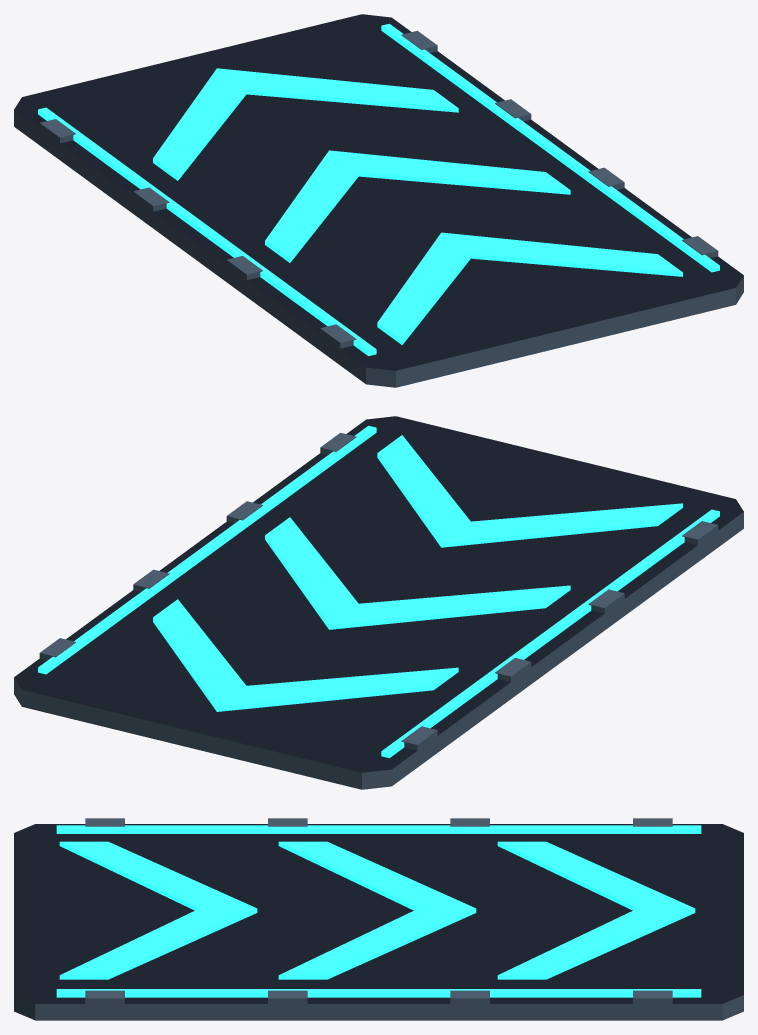
The model's file is prop-chevron-8ec5bc25.glb.
3 views of the same model, one above another, from view 1: azimuth 30°, elevation 25°; view 2: azimuth 150°, elevation 25°; view 3: azimuth 270°, elevation 25° (orthographic). The views are drawn at different scales.
Visible parts, largest first — view 1: prop-chevron_body, chevron_forward_0, chevron_forward_2, chevron_forward_1; view 2: prop-chevron_body, chevron_forward_0, chevron_forward_1, chevron_forward_2; view 3: prop-chevron_body, chevron_forward_0, chevron_forward_1, chevron_forward_2.
Boxes of the visible parts, <box> form: prop-chevron_body: <box>14,14,743,387</box>; chevron_forward_0: <box>153,68,458,180</box>; chevron_forward_2: <box>377,232,682,344</box>; chevron_forward_1: <box>265,150,570,262</box>; prop-chevron_body: <box>14,416,743,789</box>; chevron_forward_0: <box>153,599,458,711</box>; chevron_forward_1: <box>265,517,570,629</box>; chevron_forward_2: <box>377,435,682,547</box>; prop-chevron_body: <box>14,818,743,1020</box>; chevron_forward_0: <box>497,841,695,979</box>; chevron_forward_1: <box>278,841,476,979</box>; chevron_forward_2: <box>59,841,257,979</box>.
Bounding box in the file's own units: 7 × 0.4 × 12.
